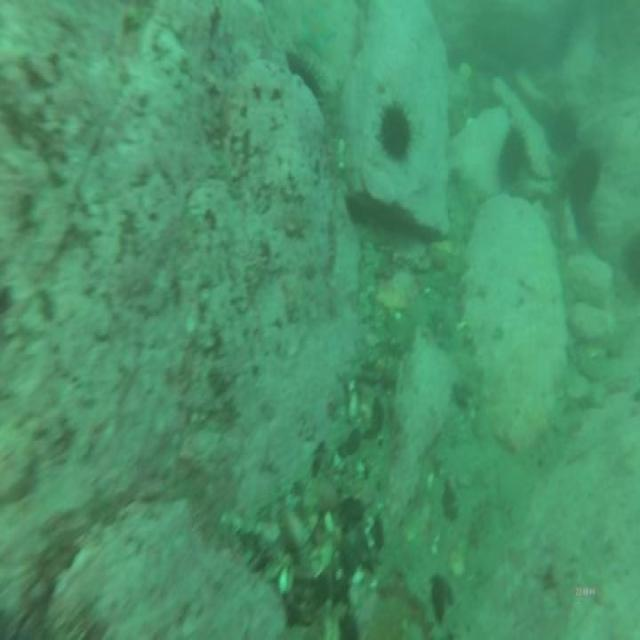echinus: (373, 92, 416, 169), (564, 147, 604, 215), (284, 47, 326, 106), (545, 103, 582, 161), (498, 124, 530, 186), (618, 227, 640, 295)
